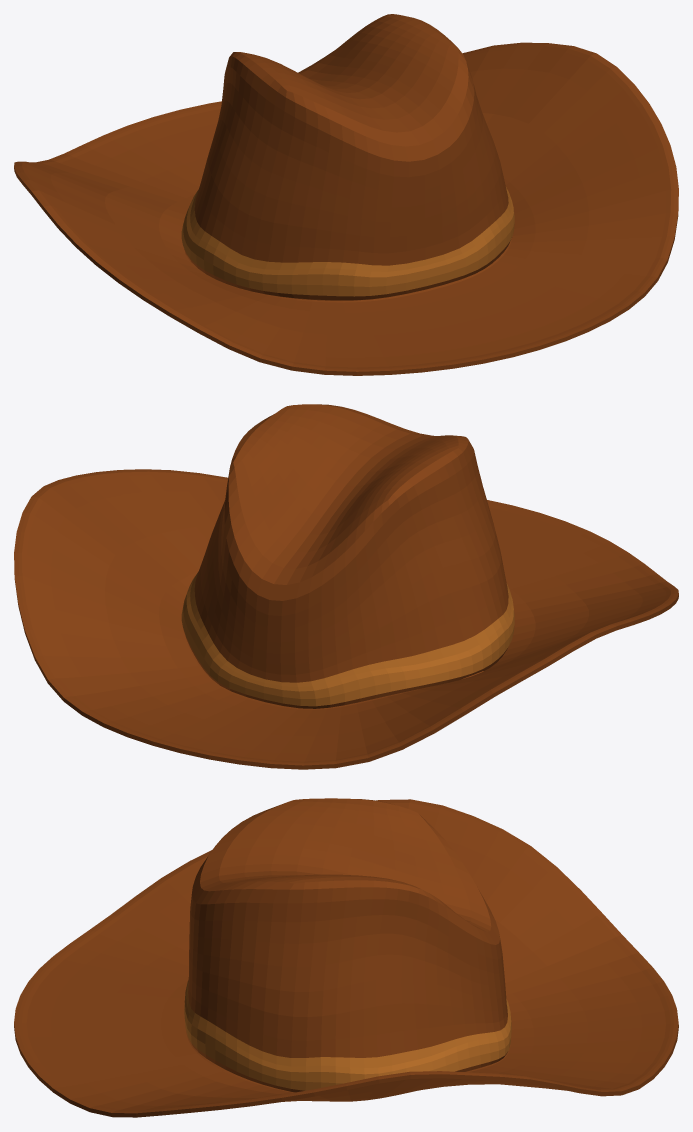
Rendered from CowboyHat 1.fbx.
The picture shows the model from 3 angles, top to bottom: view 1: azimuth 30°, elevation 25°; view 2: azimuth 150°, elevation 25°; view 3: azimuth 270°, elevation 25°; orthographic projection.
Parts seen in each view (by area): view 1: Hat; view 2: Hat; view 3: Hat.
Boxes of the visible parts, x1,y1,x2,y2 form: Hat: (14, 14, 678, 375); Hat: (14, 404, 678, 769); Hat: (14, 798, 678, 1117).
Size of the model in its own units: 440 by 148 by 440.
